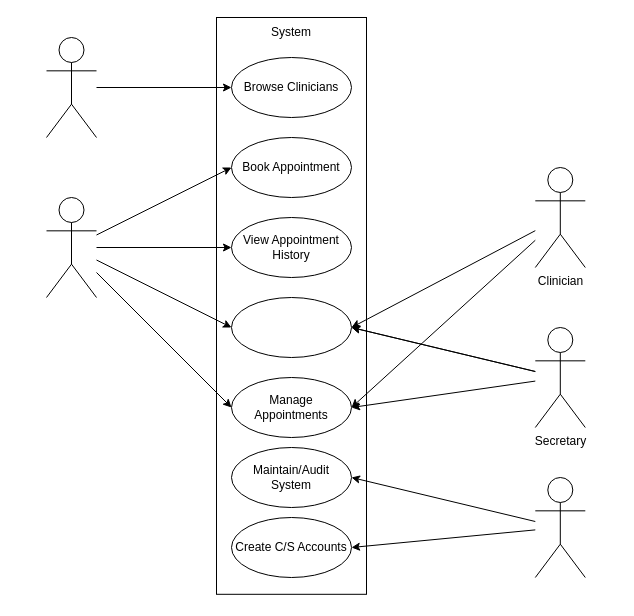
Image size: 634x616. Some labels were removed from this diagram. Each missing label, with the box of its shape:
Manage Profile: (230, 296, 352, 358)
Registered Patient: (46, 196, 96, 298)
System Administrator: (534, 476, 585, 578)
Unregistered Patient: (46, 36, 96, 138)
